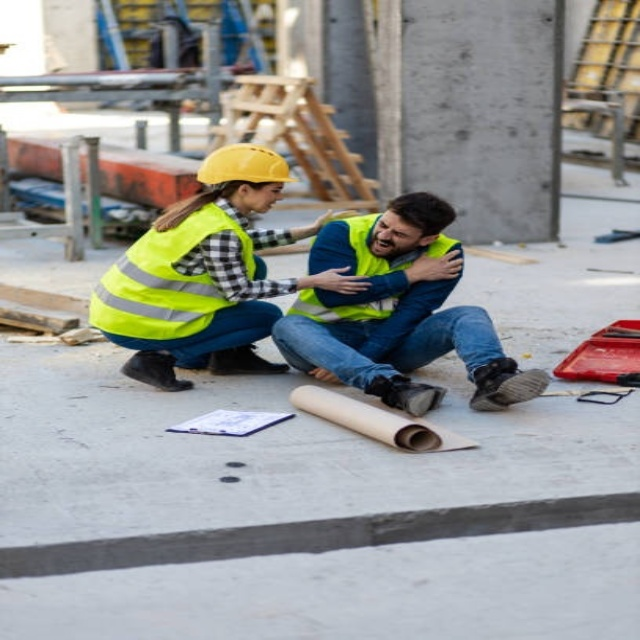Sin_gafas: (378, 218, 416, 241), (254, 185, 284, 196)
Sin_guantes: (306, 264, 373, 297), (412, 247, 464, 282)
Sin_mascara: (369, 238, 395, 257), (251, 200, 278, 211)
